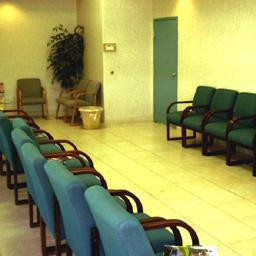Bote de Basura: (81, 105, 106, 134)
Matera: (48, 25, 81, 122)
Puerta: (153, 17, 177, 126)
